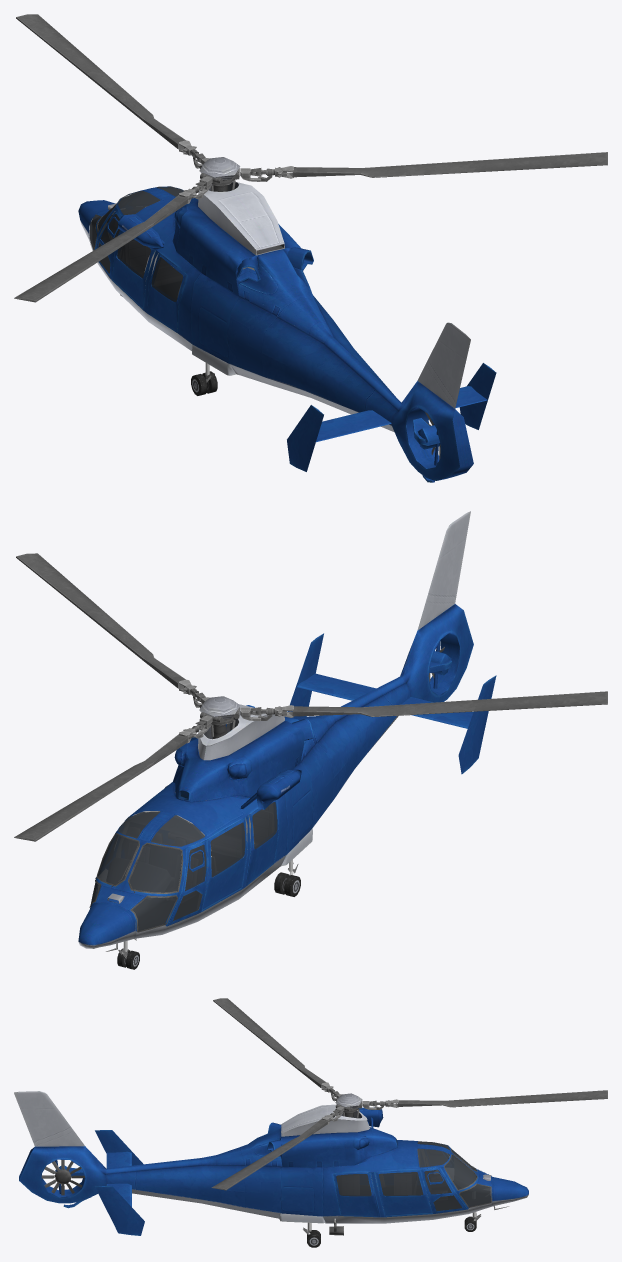
The model's file is Eurocopter_AS-365.glb.
3 views of the same model, one above another, from view 1: azimuth 30°, elevation 25°; view 2: azimuth 150°, elevation 25°; view 3: azimuth 270°, elevation 25° (orthographic). The views are drawn at different scales.
Visible parts, largest first — view 1: Eurocopter_AS365__LOD4; view 2: Eurocopter_AS365__LOD4; view 3: Eurocopter_AS365__LOD4.
Part boxes in pixels (x1,y1,x2,y2): Eurocopter_AS365__LOD4: (14,14,607,482); Eurocopter_AS365__LOD4: (14,511,607,969); Eurocopter_AS365__LOD4: (14,998,607,1247).
Size of the model in its own units: 12.57 by 4.26 by 16.34.
2 materials, 2 textured.
